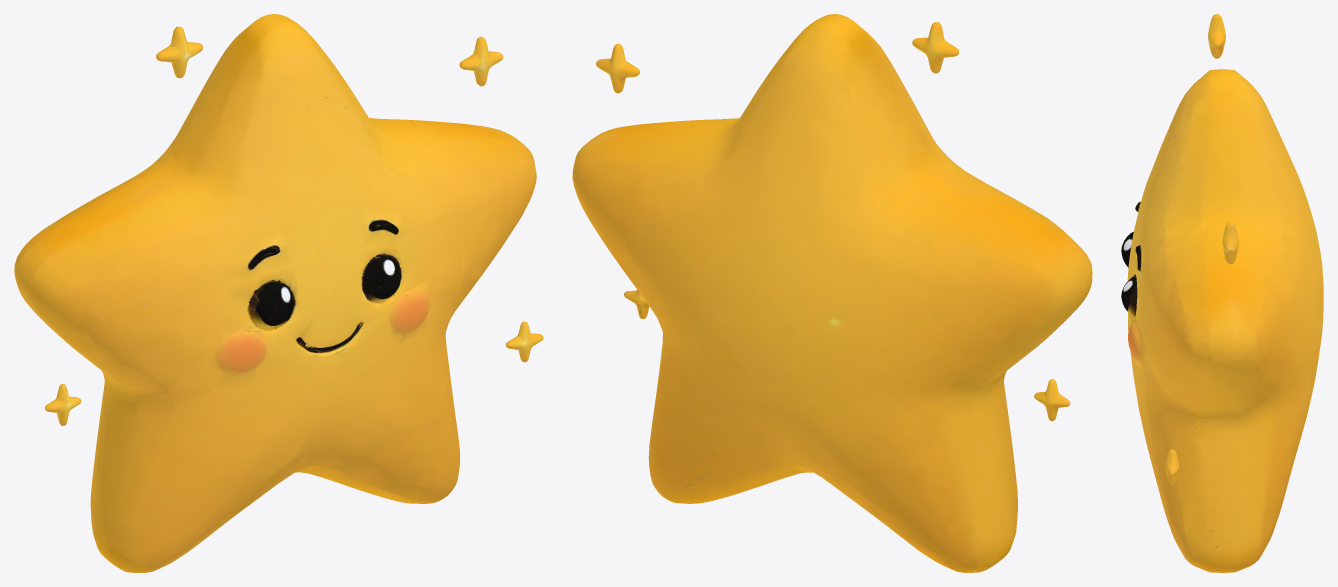
Rendered from starlet.glb.
3 renders of one model, left to right at view 1: azimuth 30°, elevation 25°; view 2: azimuth 150°, elevation 25°; view 3: azimuth 270°, elevation 25°, orthographic. The views are drawn at different scales.
Parts seen in each view (by area): view 1: ar-normalized; view 2: ar-normalized; view 3: ar-normalized.
Boxes of the visible parts, x1,y1,x2,y2 form: ar-normalized: [14, 14, 543, 572]; ar-normalized: [572, 14, 1092, 572]; ar-normalized: [1121, 14, 1323, 572].
Size of the model in its own units: 0.9912 by 1 by 0.4034.
Materials: 1 (1 with a texture image).
